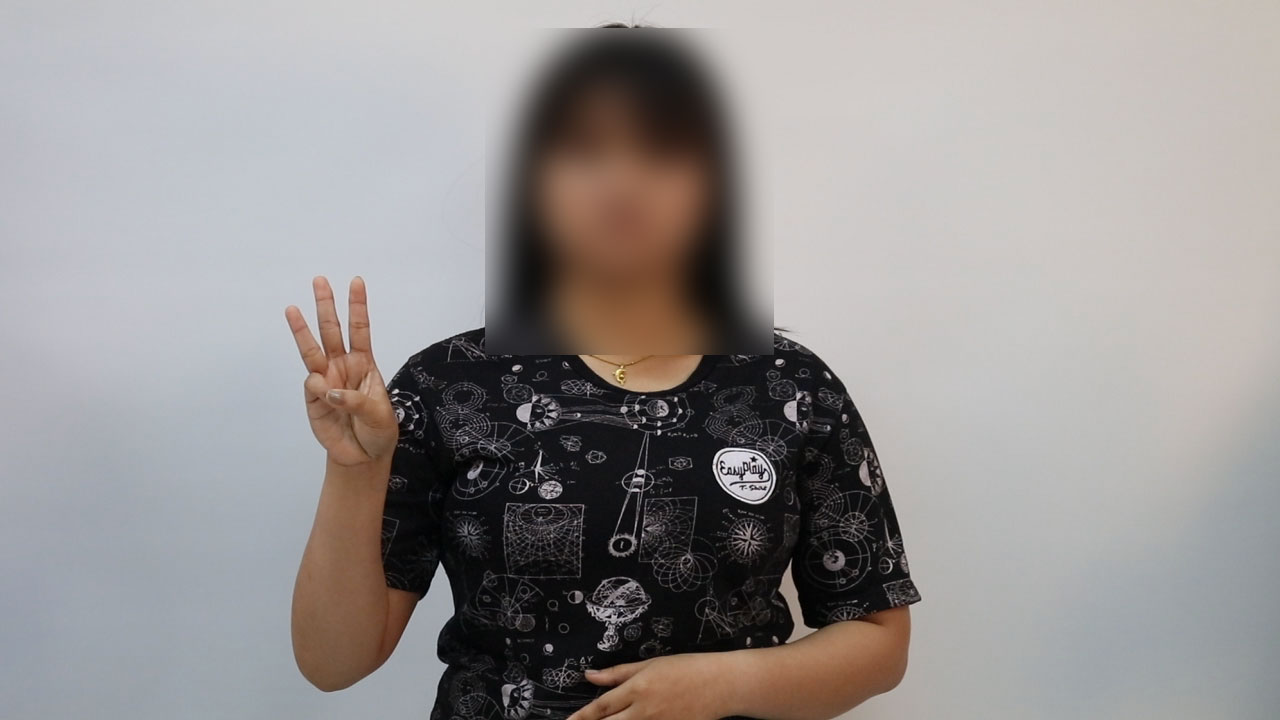wor: (275, 268, 409, 478)
